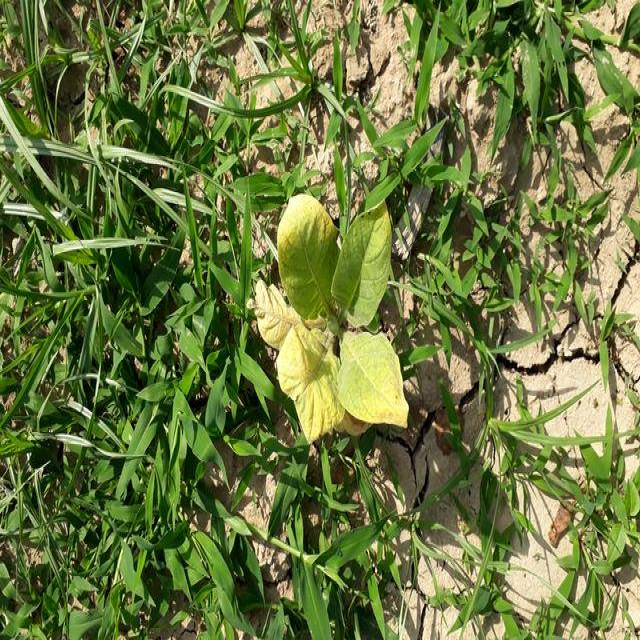crop: (266, 196, 408, 439)
